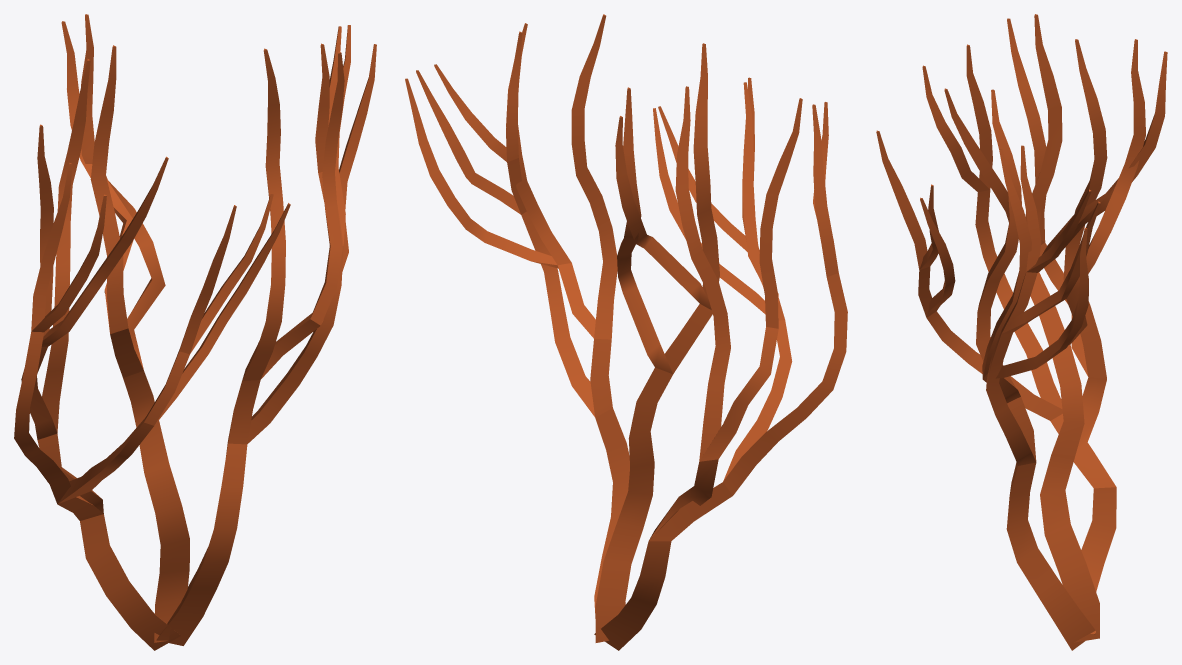
Rendered from coral_seagrass_D_raqam_light.fbx.
3 views of the same model, side by side, from view 1: azimuth 30°, elevation 25°; view 2: azimuth 150°, elevation 25°; view 3: azimuth 270°, elevation 25° (orthographic). The views are drawn at different scales.
Visible parts, largest first — view 1: coral_seagrass_D_raqam_light; view 2: coral_seagrass_D_raqam_light; view 3: coral_seagrass_D_raqam_light.
Part boxes in pixels (box(x1,y1,x2,y2)): coral_seagrass_D_raqam_light: box(14, 14, 376, 650); coral_seagrass_D_raqam_light: box(405, 14, 847, 650); coral_seagrass_D_raqam_light: box(876, 14, 1167, 650).
Size of the model in its own units: 85.84 by 127 by 55.93.
